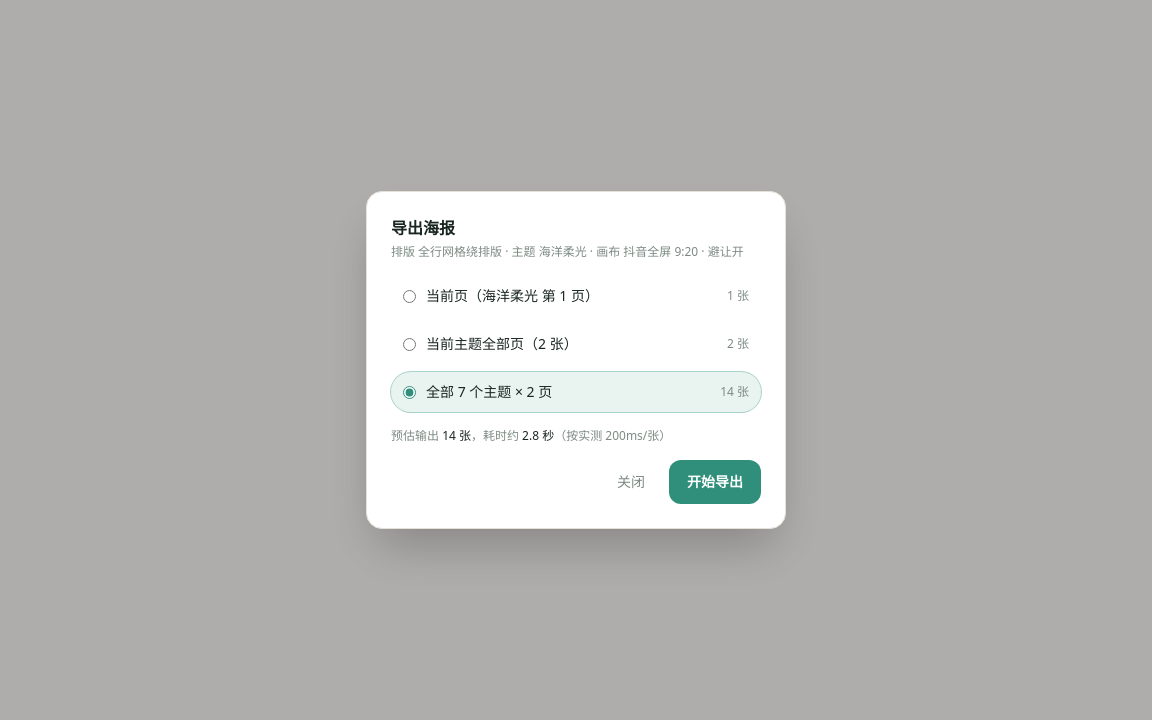
it: ExportDialog - 错误 + 重试（M3 P0） › POST batch 网络失败 → 错误阶段
What coordinates should you click on to do the following:
click the button with test id "export-start"
I would click on:
 (715, 482)
Its box is [669, 460, 761, 504].
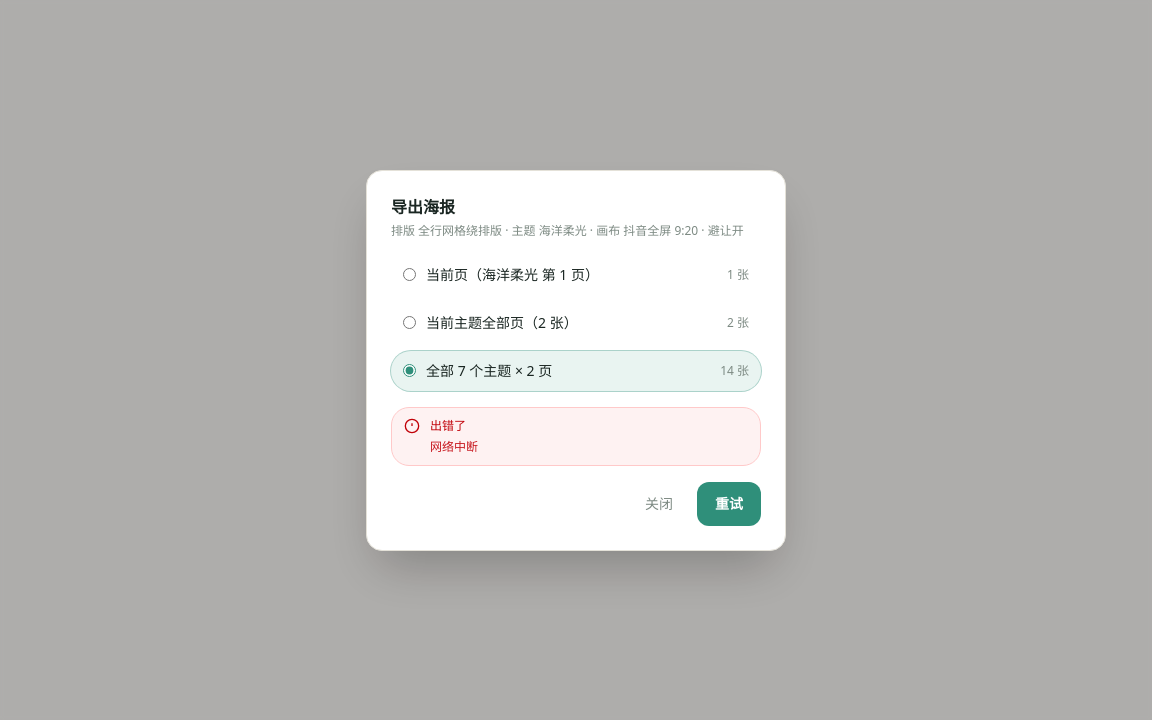
Expected: the element with test id "export-error-section" is shown, [391, 406, 761, 526]
Expected: the element with test id "export-error-message" shows "网络中断", [430, 438, 478, 455]
